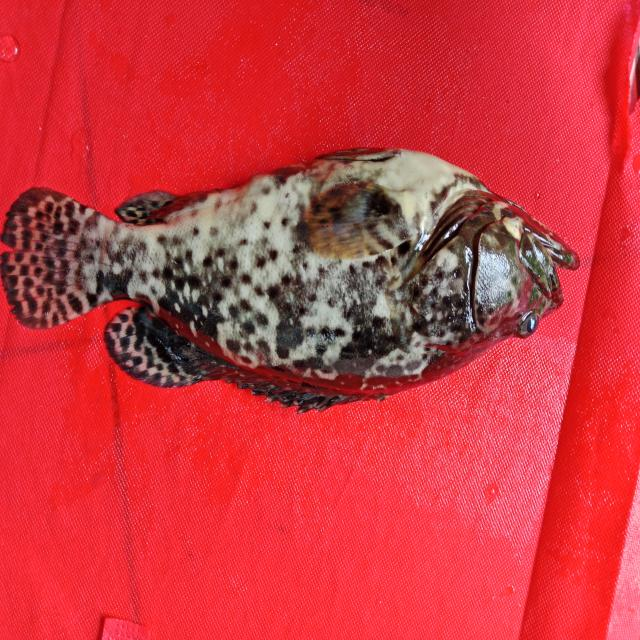ikan: (8, 116, 594, 419)
